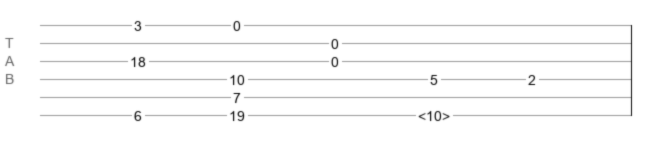0: (233, 18, 241, 28), (331, 36, 339, 46), (331, 54, 339, 64)
10: (229, 72, 245, 82)
18: (130, 54, 146, 64)
19: (229, 108, 245, 118)
2: (528, 72, 536, 82)
3: (134, 18, 142, 28)
5: (430, 72, 438, 82)
6: (134, 108, 142, 118)
7: (233, 90, 241, 100)
harmonic: (418, 108, 450, 118)
